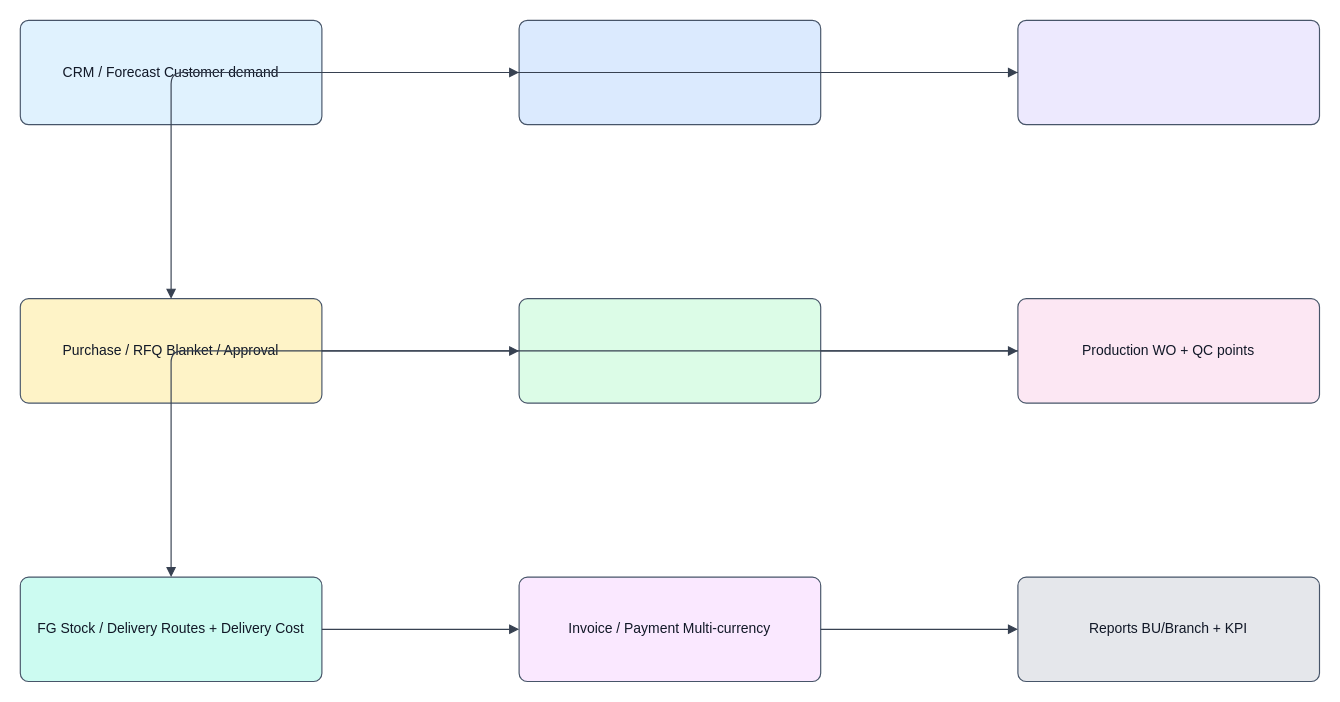
This 1340x702 diagram has some shape labels left out. Here are the shapes that lost their labels. From the top down, the box of each, then its label:
(518, 19, 821, 125): Quotation / SO Sales + Margin
(1017, 19, 1320, 125): MRP Demand MO / Procurement
(518, 298, 821, 403): Receive RM Lot + Barcode
